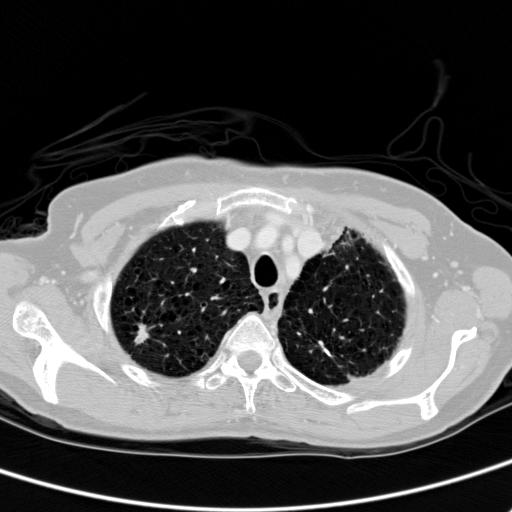nodule: (130, 325, 153, 348)
